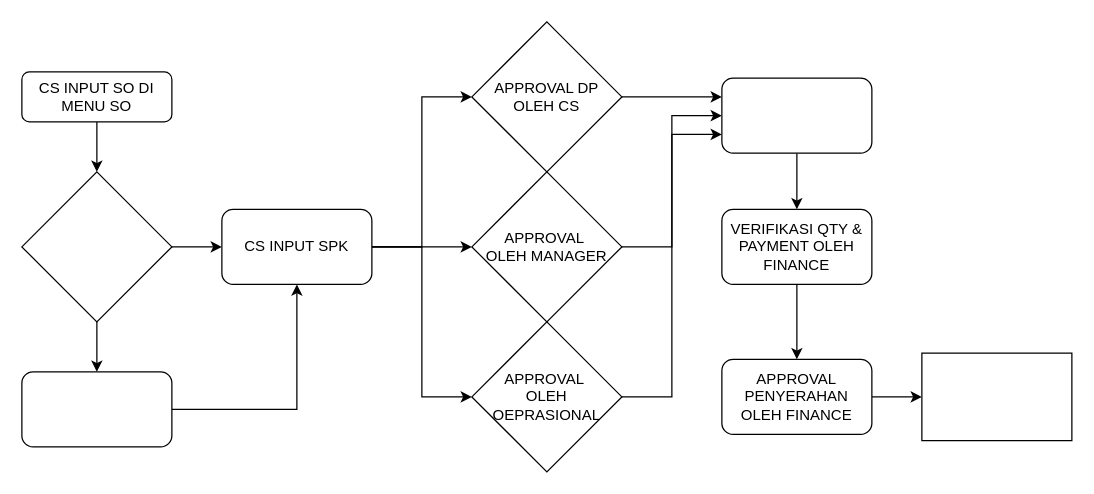
Some shapes in this 1094 by 494 pixel diagram are drawn without their labels. Each missing label, with the box of its shape:
ADMIN BARANG INPUT BAHAN DITERIMA: (21, 371, 172, 447)
DESIGN AMBIL KERJAAN DI MENU DESIGNER: (21, 171, 172, 322)
PENYERAHAN BARANG OLEH ADMIN PENYERAHAN: (921, 352, 1072, 441)
PRODUKSI: (721, 77, 872, 153)
